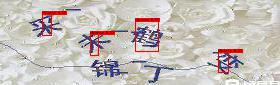chinese: (75, 28, 111, 57), (133, 24, 166, 52), (29, 11, 60, 40), (212, 51, 243, 78), (143, 62, 177, 85), (92, 58, 122, 83)
